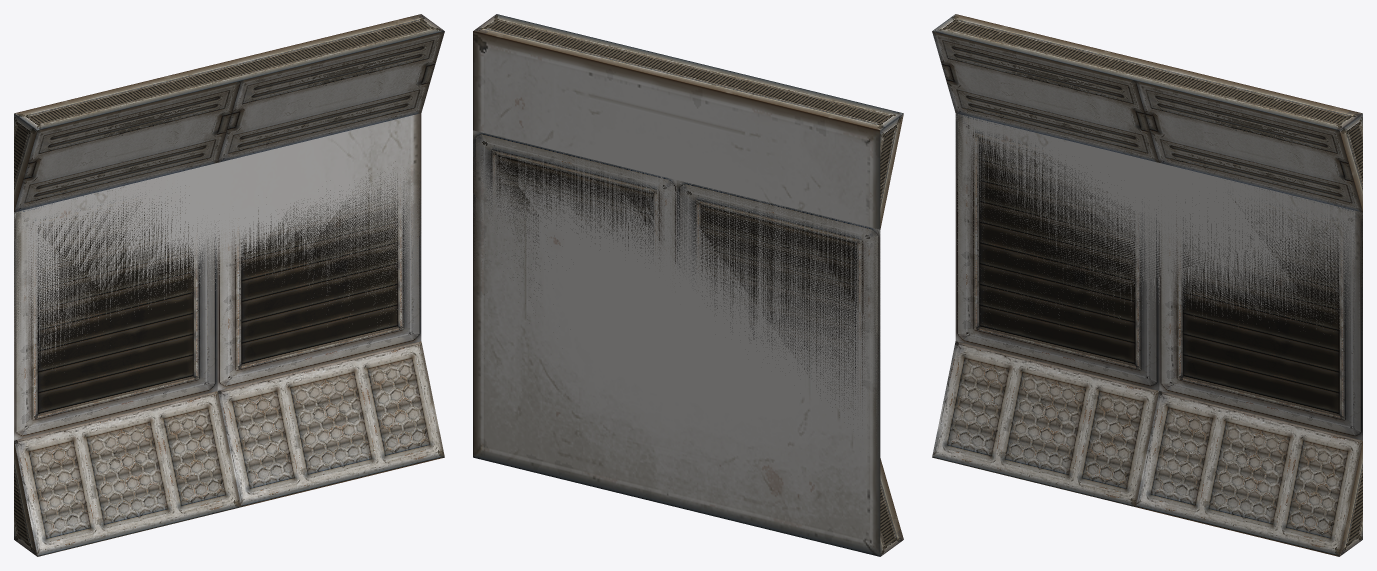
Rendered from scifi_wall9_6.FBX.
The picture shows the model from 3 angles, left to right: view 1: azimuth 30°, elevation 25°; view 2: azimuth 150°, elevation 25°; view 3: azimuth 330°, elevation 25°; orthographic projection.
Parts seen in each view (by area): view 1: Plane090; view 2: Plane090; view 3: Plane090.
Boxes of the visible parts, <box> form: Plane090: <box>14,14,444,556</box>; Plane090: <box>473,14,903,556</box>; Plane090: <box>932,14,1362,556</box>.
Bounding box in the file's own units: 254 × 254 × 25.4.
